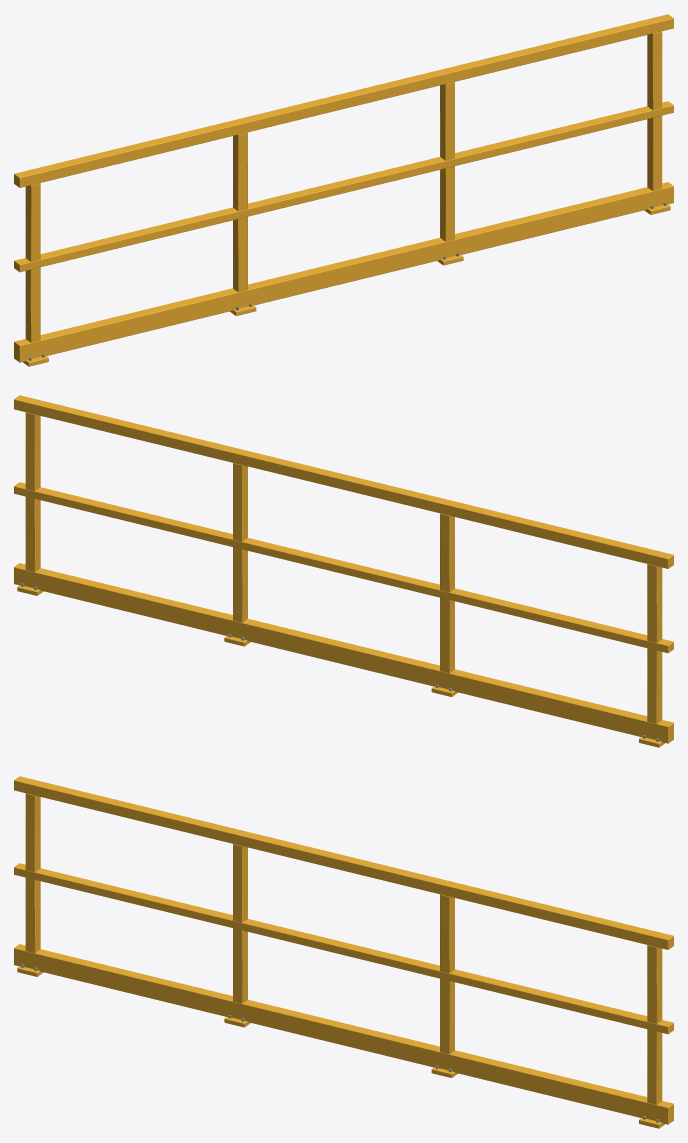
The picture shows the model from 3 angles, top to bottom: view 1: azimuth 30°, elevation 25°; view 2: azimuth 150°, elevation 25°; view 3: azimuth 330°, elevation 25°; orthographic projection.
Parts seen in each view (by area): view 1: SM_NPP_Railing_Open_4m_A; view 2: SM_NPP_Railing_Open_4m_A; view 3: SM_NPP_Railing_Open_4m_A.
Boxes of the visible parts, x1=… form: SM_NPP_Railing_Open_4m_A: x1=14, y1=14, x2=673, y2=366; SM_NPP_Railing_Open_4m_A: x1=14, y1=395, x2=673, y2=747; SM_NPP_Railing_Open_4m_A: x1=14, y1=776, x2=673, y2=1128.
Size of the model in its own units: 4 by 1.1 by 0.125.
